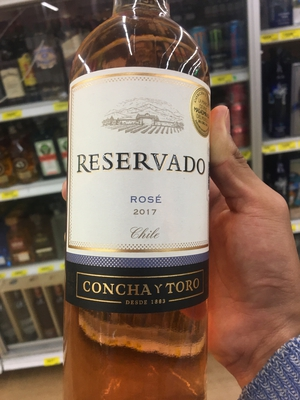reservado rose: (70, 8, 211, 395)
